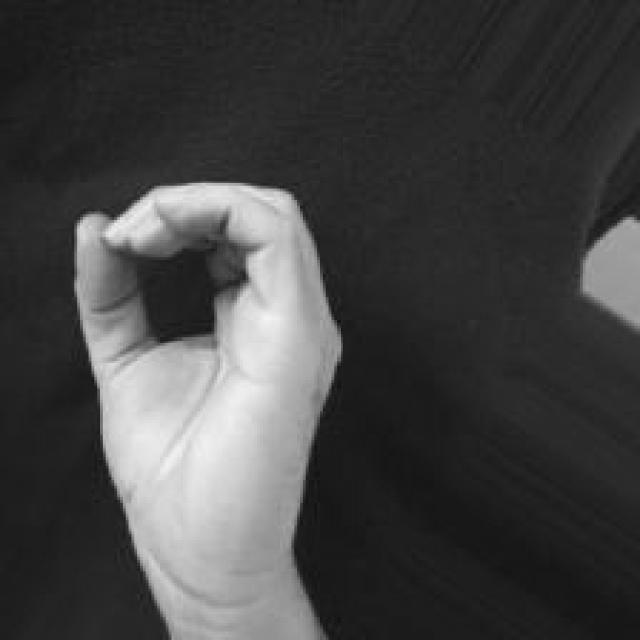O: (43, 174, 351, 640)
